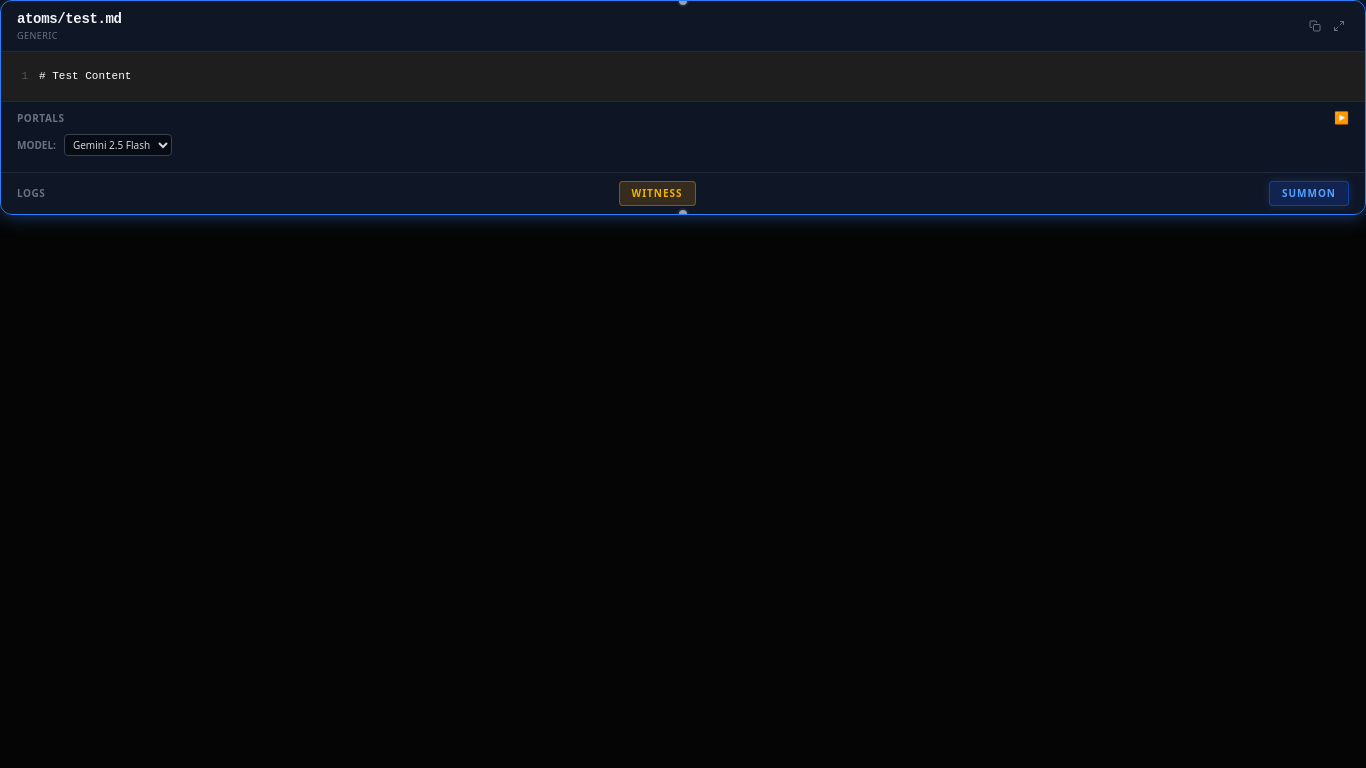
Test: SpatiaNode › opens maximize modal when maximize button is clicked
The width and height of the screenshot is (1366, 768).
Maximize button has title 'Maximize'
Click the button titled "Maximize" at (1339, 26), box [1329, 16, 1349, 36]
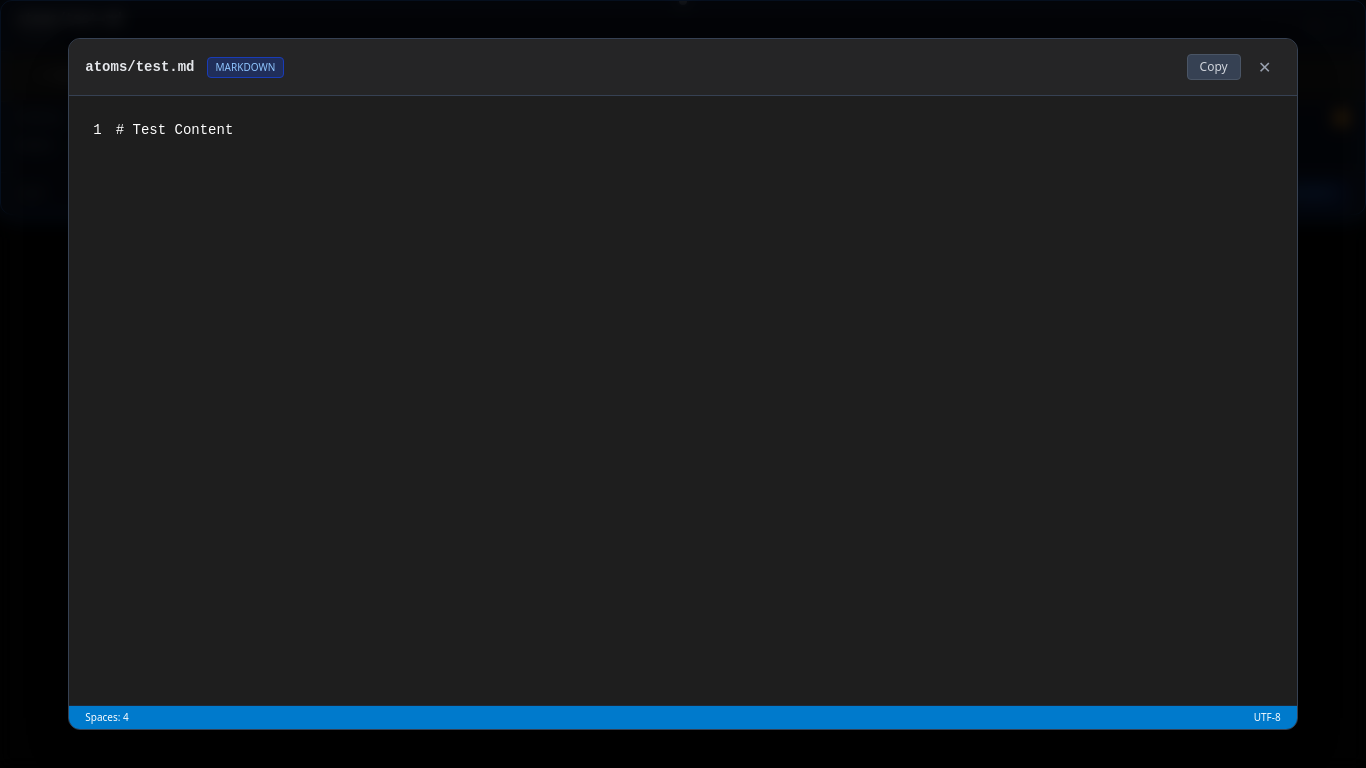
Expected: the text "Spaces: 4" is shown, [85, 710, 129, 725]
